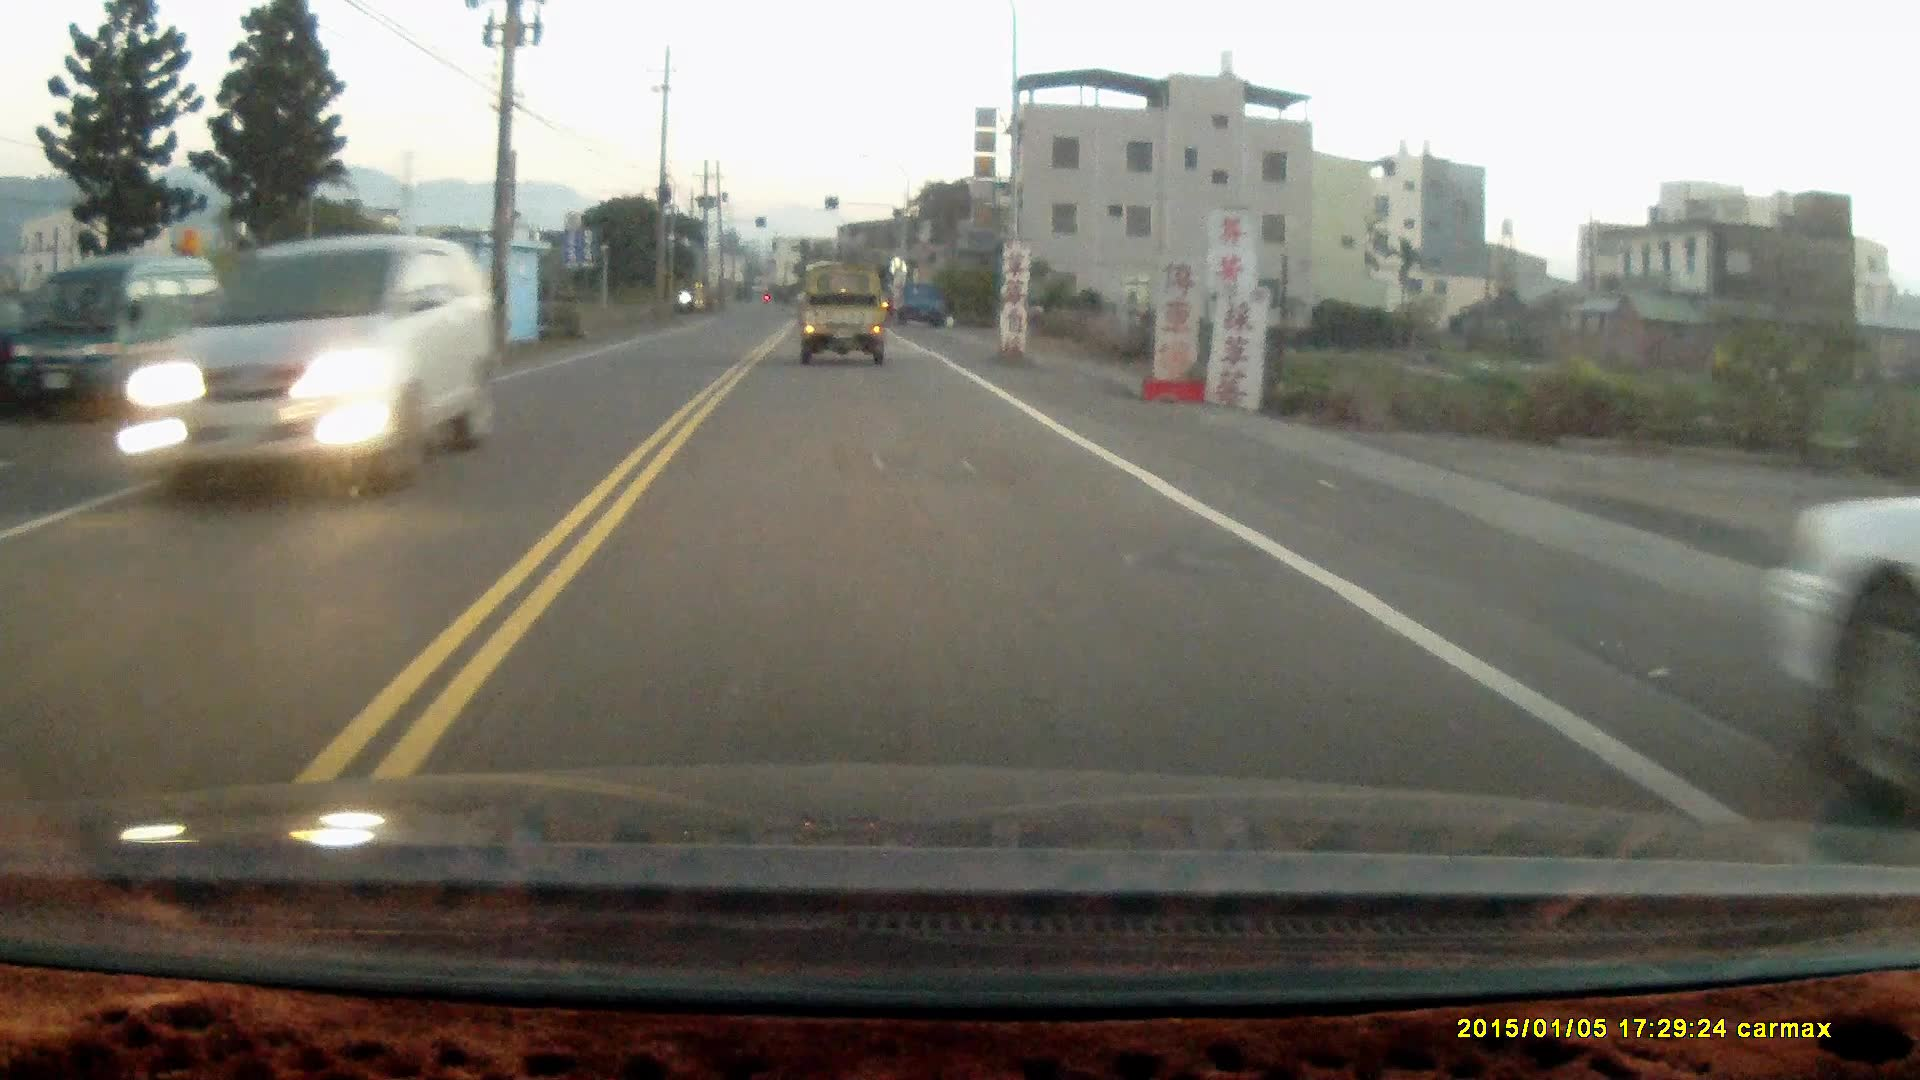vehicle: (141, 233, 496, 495), (1771, 496, 1920, 840), (11, 255, 233, 417), (799, 273, 891, 372), (897, 281, 949, 330)
